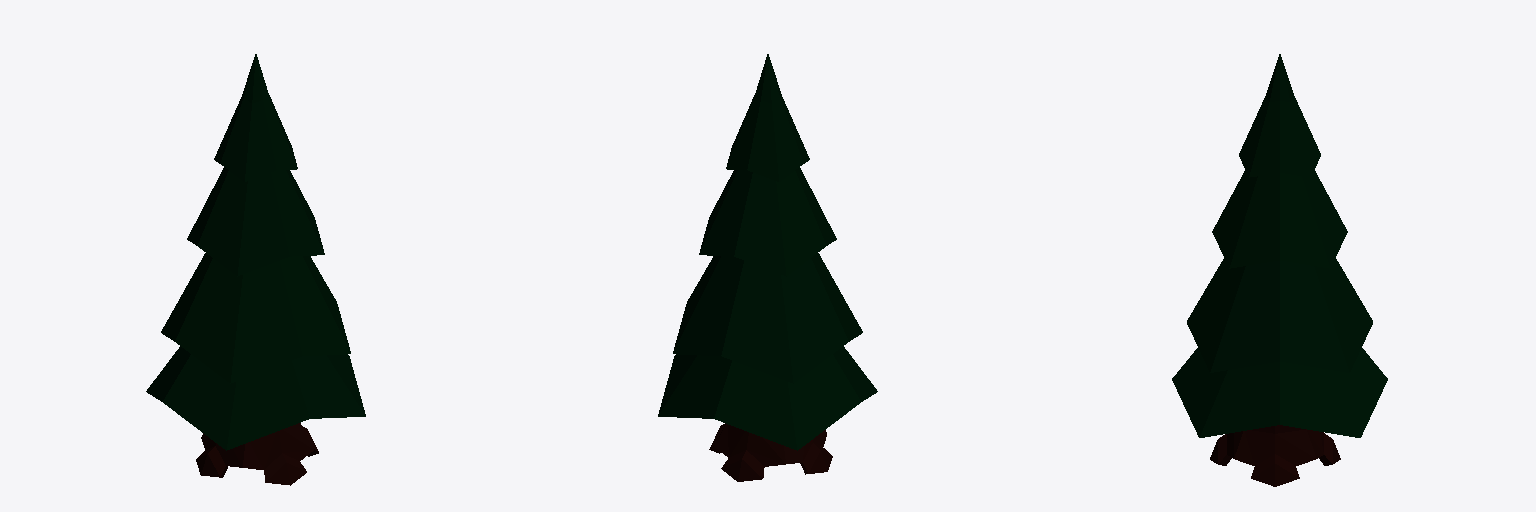
File: elka.obj
3 renders of one model, left to right at view 1: azimuth 30°, elevation 25°; view 2: azimuth 150°, elevation 25°; view 3: azimuth 270°, elevation 25°, orthographic.
Parts seen in each view (by area): view 1: Cube; view 2: Cube; view 3: Cube.
Part boxes in pixels (bbox=[...]): Cube: bbox=[146, 54, 365, 485]; Cube: bbox=[658, 54, 877, 481]; Cube: bbox=[1172, 54, 1387, 486].
Bounding box in the file's own units: 3.21 × 6.67 × 3.21.